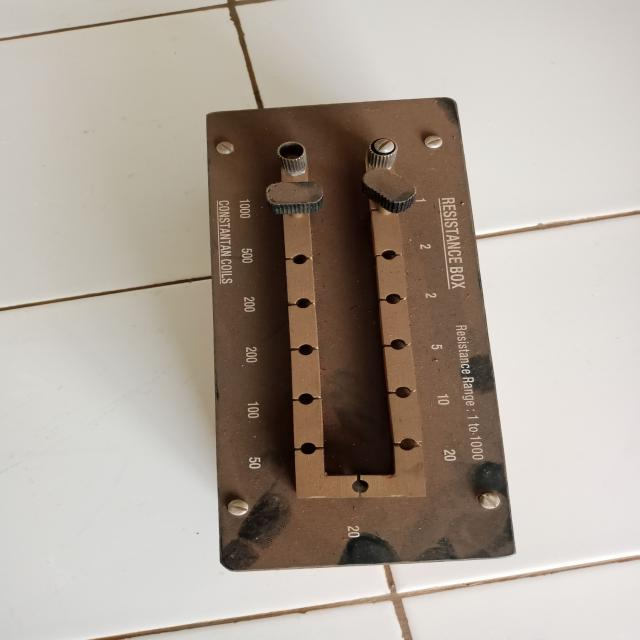Pinned Resistance Box: (185, 92, 530, 578)
